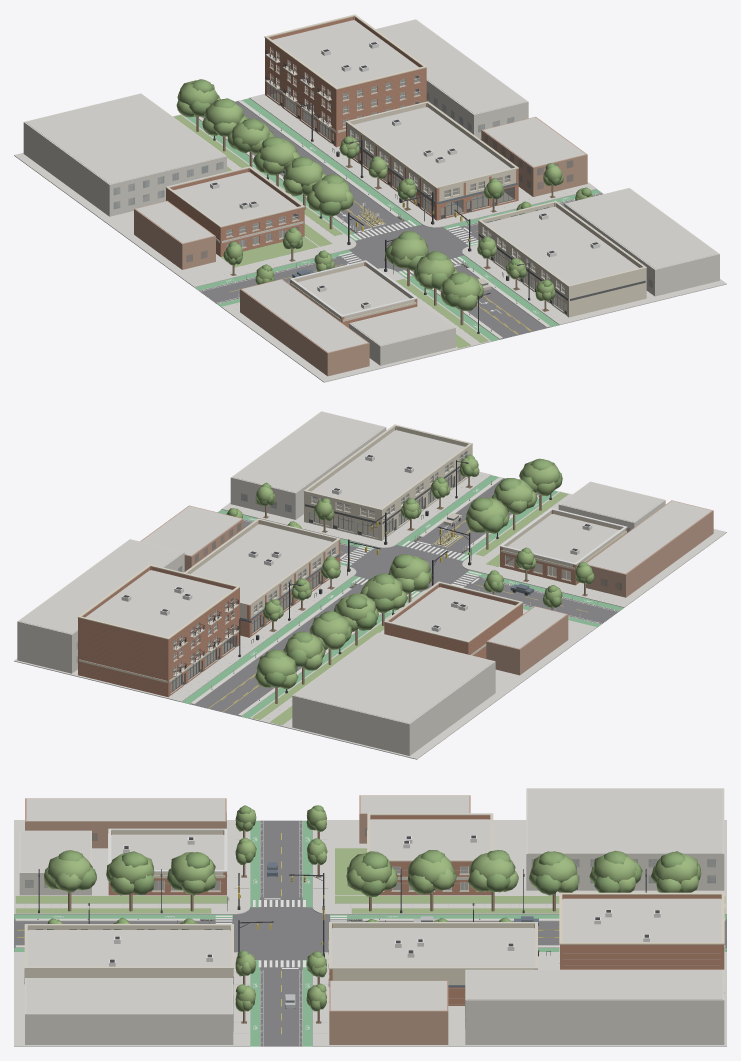
Rendered from clay-road-diet-complete-street-clay-v002.glb.
3 views of the same model, one above another, from view 1: azimuth 30°, elevation 25°; view 2: azimuth 150°, elevation 25°; view 3: azimuth 270°, elevation 25° (orthographic). The views are drawn at different scales.
Parts seen in each view (by area): view 1: CLAY_MEMBRANE, CLAY_CONCRETE, CLAY_CONTEXT, CLAY_WALL, CLAY_TREE, CLAY_ASPHALT, CLAY_NEIGHBOUR, CLAY_GLASS, CLAY_TREE2, CLAY_GREEN, CLAY_CREAM, CLAY_STONE (+10 smaller); view 2: CLAY_MEMBRANE, CLAY_CONTEXT, CLAY_WALL, CLAY_CONCRETE, CLAY_TREE, CLAY_ASPHALT, CLAY_NEIGHBOUR, CLAY_TREE2, CLAY_GREEN, CLAY_CREAM, CLAY_STONE, CLAY_GLASS (+10 smaller); view 3: CLAY_MEMBRANE, CLAY_CONTEXT, CLAY_CONCRETE, CLAY_TREE, CLAY_ASPHALT, CLAY_WALL, CLAY_NEIGHBOUR, CLAY_GRASS, CLAY_TREE2, CLAY_GREEN, CLAY_CREAM, CLAY_STONE (+9 smaller).
Part boxes in pixels (<box>): CLAY_MEMBRANE: <box>25,20,717,352</box>; CLAY_CONCRETE: <box>14,94,726,382</box>; CLAY_CONTEXT: <box>23,19,719,365</box>; CLAY_WALL: <box>166,16,518,327</box>; CLAY_TREE: <box>176,80,592,311</box>; CLAY_ASPHALT: <box>194,100,708,380</box>; CLAY_NEIGHBOUR: <box>134,116,587,376</box>; CLAY_GLASS: <box>113,48,652,310</box>; CLAY_TREE2: <box>177,79,591,307</box>; CLAY_GREEN: <box>185,98,600,341</box>; CLAY_CREAM: <box>264,14,515,321</box>; CLAY_STONE: <box>165,53,646,315</box>; CLAY_MEMBRANE: <box>19,412,711,723</box>; CLAY_CONTEXT: <box>17,411,665,755</box>; CLAY_WALL: <box>78,510,626,697</box>; CLAY_CONCRETE: <box>14,471,726,759</box>; CLAY_TREE: <box>226,458,594,688</box>; CLAY_ASPHALT: <box>52,477,624,758</box>; CLAY_NEIGHBOUR: <box>140,500,713,675</box>; CLAY_TREE2: <box>227,454,588,687</box>; CLAY_GREEN: <box>182,475,623,718</box>; CLAY_CREAM: <box>77,510,626,682</box>; CLAY_STONE: <box>170,424,571,694</box>; CLAY_GLASS: <box>77,451,630,691</box>; CLAY_MEMBRANE: <box>21,788,722,1013</box>; CLAY_CONTEXT: <box>19,788,724,1044</box>; CLAY_CONCRETE: <box>14,820,726,1046</box>; CLAY_TREE: <box>44,806,698,1011</box>; CLAY_ASPHALT: <box>14,820,726,1046</box>; CLAY_WALL: <box>108,815,724,1005</box>; CLAY_NEIGHBOUR: <box>25,795,470,1044</box>; CLAY_GRASS: <box>15,848,725,913</box>; CLAY_TREE2: <box>47,805,701,1011</box>; CLAY_GREEN: <box>14,820,726,1046</box>; CLAY_CREAM: <box>108,830,724,993</box>; CLAY_STONE: <box>24,813,559,1001</box>.
Size of the model in its own units: 96 by 13.46 by 128.
